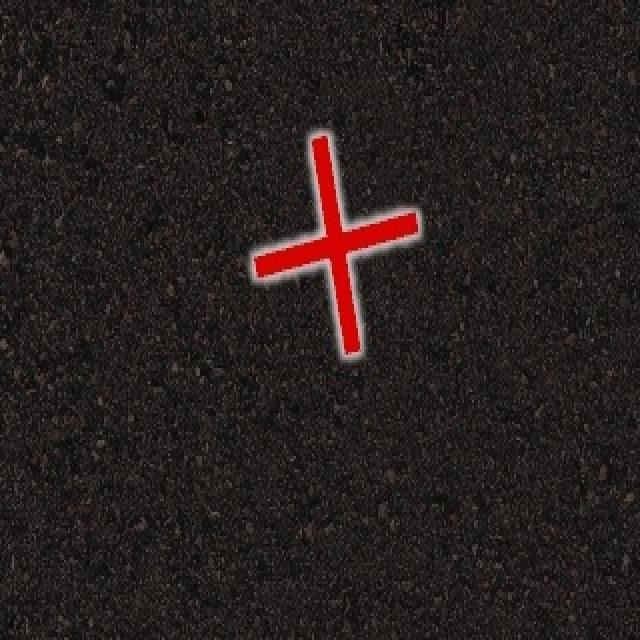x_marker: (253, 135, 417, 353)
